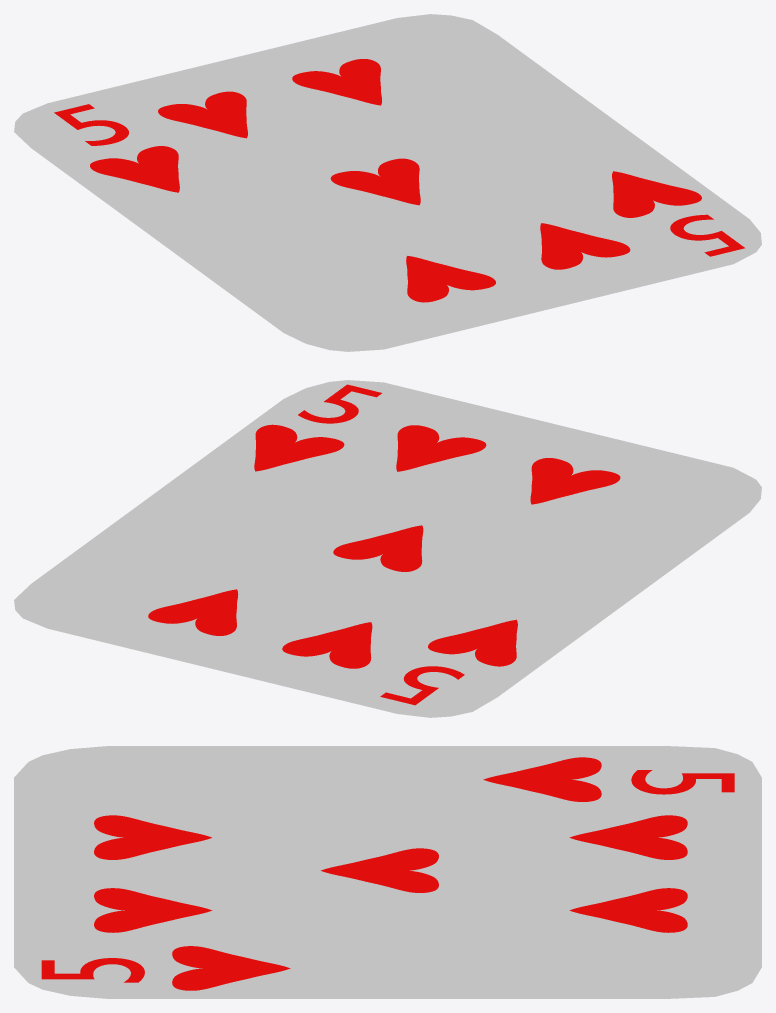
The picture shows the model from 3 angles, top to bottom: view 1: azimuth 30°, elevation 25°; view 2: azimuth 150°, elevation 25°; view 3: azimuth 270°, elevation 25°; orthographic projection. The views are drawn at different scales.
Visible parts, largest first — view 1: 5ofHearts, Plane.017_Red, Plane.018_Red, Plane.022_Red, Plane.023_Red, Plane.020_Red, Plane.019_Red, Plane.021_Red, Font.010_Bla_Blac.002, Font.009_Bla_Blac.002; view 2: 5ofHearts, Plane.017_Red, Plane.018_Red, Plane.021_Red, Plane.022_Red, Plane.020_Red, Plane.023_Red, Plane.019_Red, Font.009_Bla_Blac.002, Font.010_Bla_Blac.002; view 3: 5ofHearts, Plane.017_Red, Plane.023_Red, Plane.021_Red, Plane.018_Red, Plane.020_Red, Plane.022_Red, Plane.019_Red, Font.010_Bla_Blac.002, Font.009_Bla_Blac.002.
Boxes of the visible parts, box(x1,y1,x2,y2) form: 5ofHearts: box(14, 14, 761, 351); Plane.017_Red: box(540, 223, 630, 269); Plane.018_Red: box(406, 256, 495, 302); Plane.022_Red: box(612, 171, 701, 217); Plane.023_Red: box(330, 158, 420, 205); Plane.020_Red: box(158, 91, 247, 138); Plane.019_Red: box(292, 59, 381, 105); Plane.021_Red: box(90, 146, 179, 192); Font.010_Bla_Blac.002: box(670, 214, 744, 256); Font.009_Bla_Blac.002: box(54, 104, 128, 145); 5ofHearts: box(14, 380, 761, 717); Plane.017_Red: box(396, 425, 486, 471); Plane.018_Red: box(530, 458, 620, 504); Plane.021_Red: box(428, 619, 517, 666); Plane.022_Red: box(254, 424, 344, 471); Plane.020_Red: box(282, 622, 372, 668); Plane.023_Red: box(333, 525, 423, 571); Plane.019_Red: box(148, 589, 238, 635); Font.009_Bla_Blac.002: box(380, 666, 464, 705); Font.010_Bla_Blac.002: box(298, 384, 381, 423); 5ofHearts: box(14, 746, 761, 998); Plane.017_Red: box(94, 888, 212, 932); Plane.023_Red: box(321, 848, 438, 892); Plane.021_Red: box(483, 757, 601, 801); Plane.018_Red: box(94, 815, 211, 859); Plane.020_Red: box(569, 815, 687, 859); Plane.022_Red: box(172, 946, 290, 990); Plane.019_Red: box(569, 888, 687, 932); Font.010_Bla_Blac.002: box(41, 958, 144, 982); Font.009_Bla_Blac.002: box(631, 770, 734, 794).
Bounding box in the file's own units: 1.6 × 0.00355 × 2.
